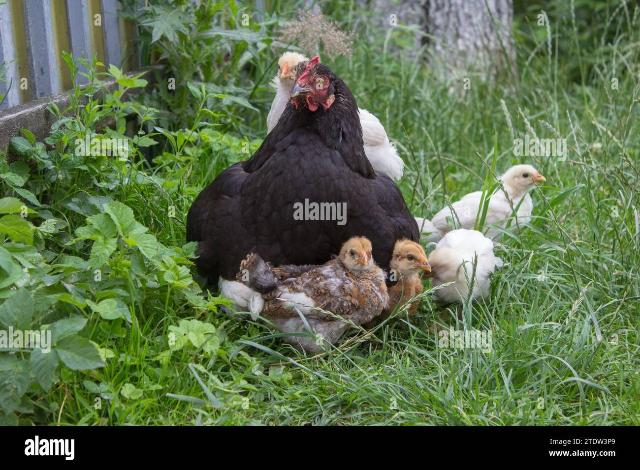Chicken: (187, 55, 422, 292), (266, 49, 406, 184)
